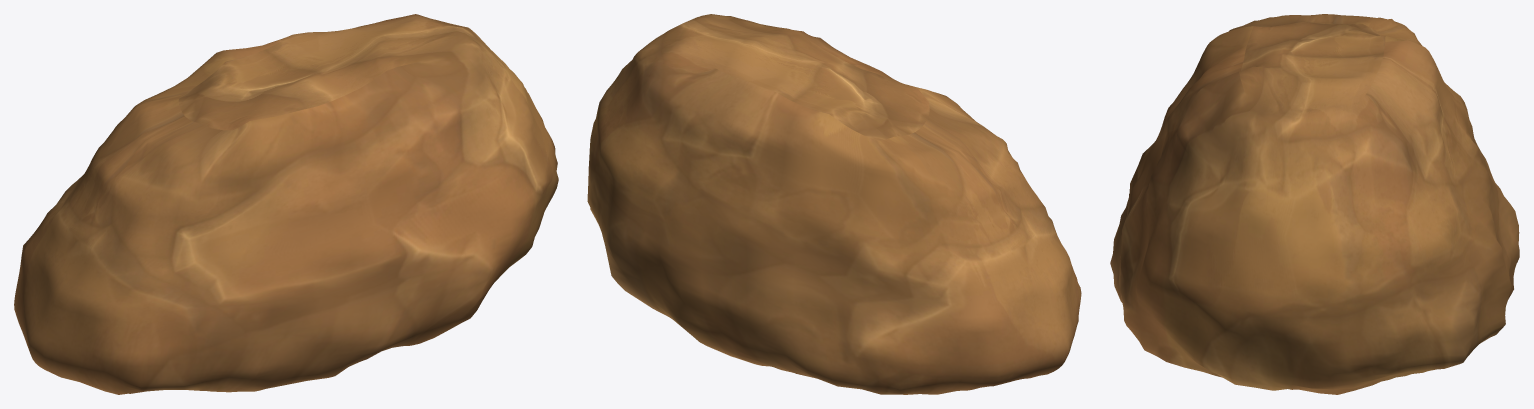
File: islands3.fbx
3 renders of one model, left to right at view 1: azimuth 30°, elevation 25°; view 2: azimuth 150°, elevation 25°; view 3: azimuth 270°, elevation 25°, orthographic. The views are drawn at different scales.
Visible parts, largest first — view 1: Cube.002; view 2: Cube.002; view 3: Cube.002.
Boxes of the visible parts, bbox=[...] form: Cube.002: bbox=[14, 14, 558, 394]; Cube.002: bbox=[587, 14, 1081, 394]; Cube.002: bbox=[1110, 14, 1519, 394].
Bounding box in the file's own units: 1627 × 880 × 1030.
Materials: 1 (1 with a texture image).
